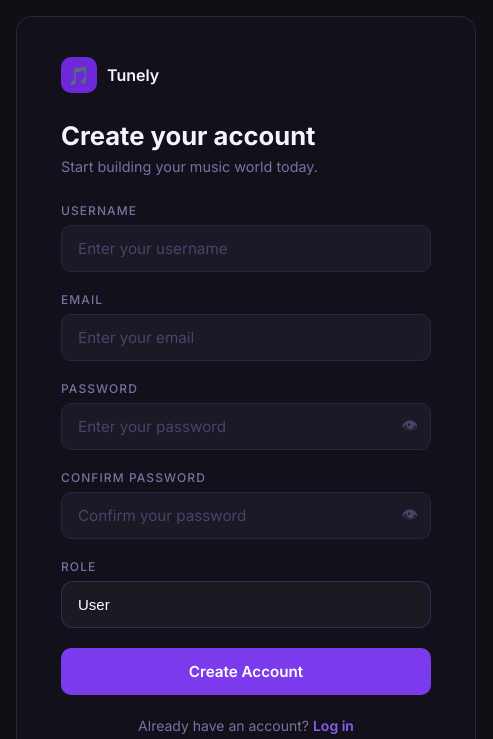
Test: Signup › shows error for mismatched passwords
Step 1. Type "alice" into the field labelled "Username" → (246, 248), box [61,225,431,272]
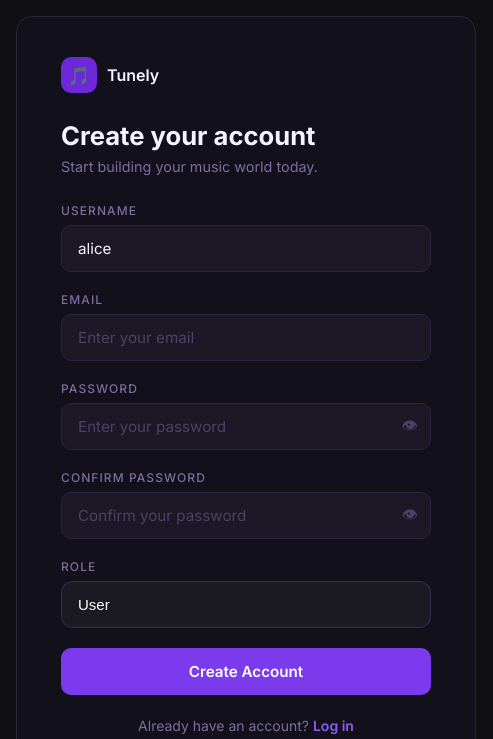
Step 2. Type "alice@example.com" into the field labelled "Email" → (246, 337), box [61,314,431,361]
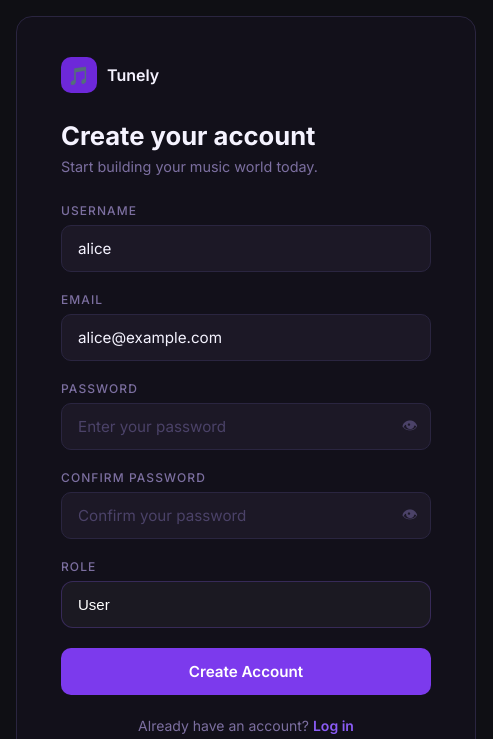
Step 3. Type "Password1!" into the password field labelled "Password" → (246, 426), box [61,403,431,450]
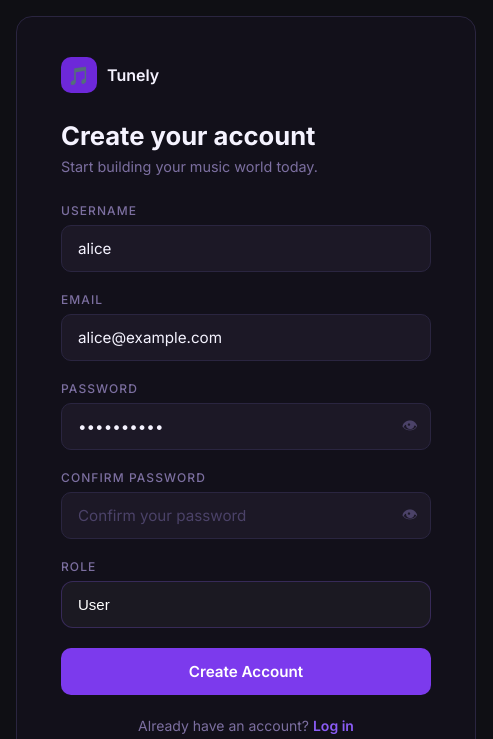
Step 4. Type "Different1!" into the password field labelled "Confirm Password" → (246, 515), box [61,492,431,539]
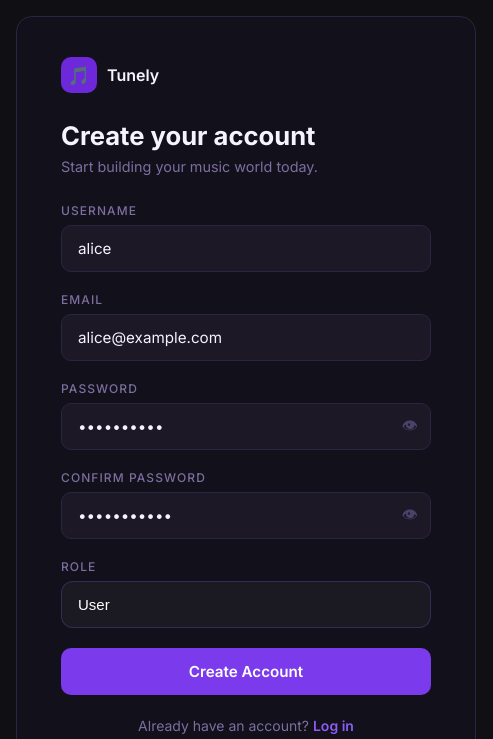
Step 5. Click the button "Create Account" → (246, 671), box [61,648,431,695]
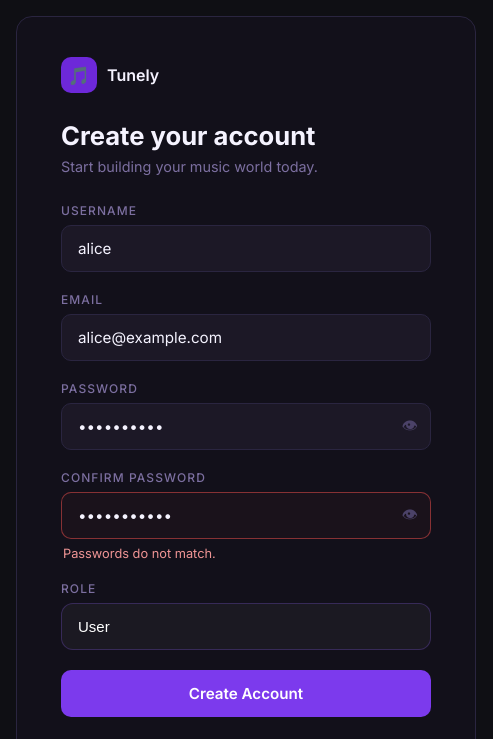
expect the text "Passwords do not match." is shown: met, box [63,546,216,561]
